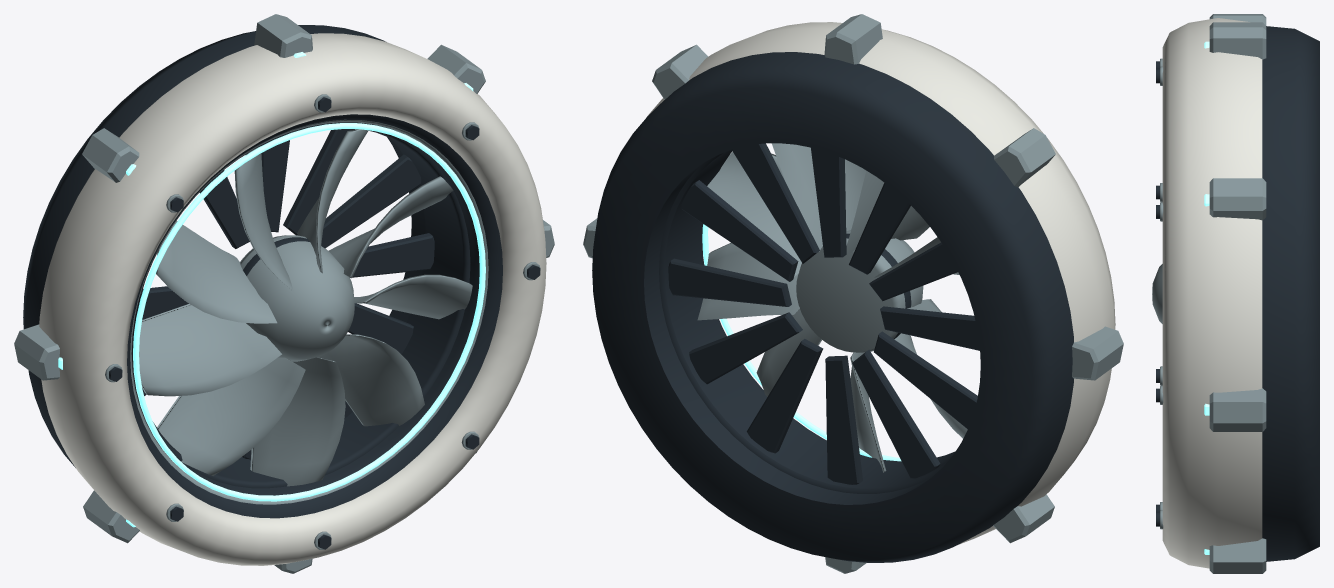
The model's file is transfer-field-turbine.glb.
3 views of the same model, side by side, from view 1: azimuth 30°, elevation 25°; view 2: azimuth 150°, elevation 25°; view 3: azimuth 270°, elevation 25° (orthographic).
Visible parts, largest first — view 1: Transfer-field turbine • duct and stator / ceramic, transfer-rotor / alloy, Transfer-field turbine • duct and stator / graphite, Transfer-field turbine • duct and stator / alloy, Transfer-field turbine • duct and stator / signal; view 2: Transfer-field turbine • duct and stator / graphite, Transfer-field turbine • duct and stator / ceramic, transfer-rotor / alloy, Transfer-field turbine • duct and stator / alloy, Transfer-field turbine • duct and stator / signal; view 3: Transfer-field turbine • duct and stator / ceramic, Transfer-field turbine • duct and stator / graphite, Transfer-field turbine • duct and stator / alloy, transfer-rotor / alloy.
Part boxes in pixels (x1,y1,x2,y2): Transfer-field turbine • duct and stator / ceramic: (39,33,546,565); transfer-rotor / alloy: (134,129,472,486); Transfer-field turbine • duct and stator / graphite: (23,25,540,549); Transfer-field turbine • duct and stator / alloy: (14,14,554,573); Transfer-field turbine • duct and stator / signal: (58,52,485,527); Transfer-field turbine • duct and stator / graphite: (592,52,1073,562); Transfer-field turbine • duct and stator / ceramic: (646,22,1115,544); transfer-rotor / alloy: (697,143,967,472); Transfer-field turbine • duct and stator / alloy: (583,14,1123,573); Transfer-field turbine • duct and stator / signal: (702,224,901,461); Transfer-field turbine • duct and stator / ceramic: (1162,18,1262,568); Transfer-field turbine • duct and stator / graphite: (1156,26,1319,561); Transfer-field turbine • duct and stator / alloy: (1160,14,1266,573); transfer-rotor / alloy: (1152,264,1162,323).
Size of the model in its own units: 5.14 by 5.14 by 1.45.
